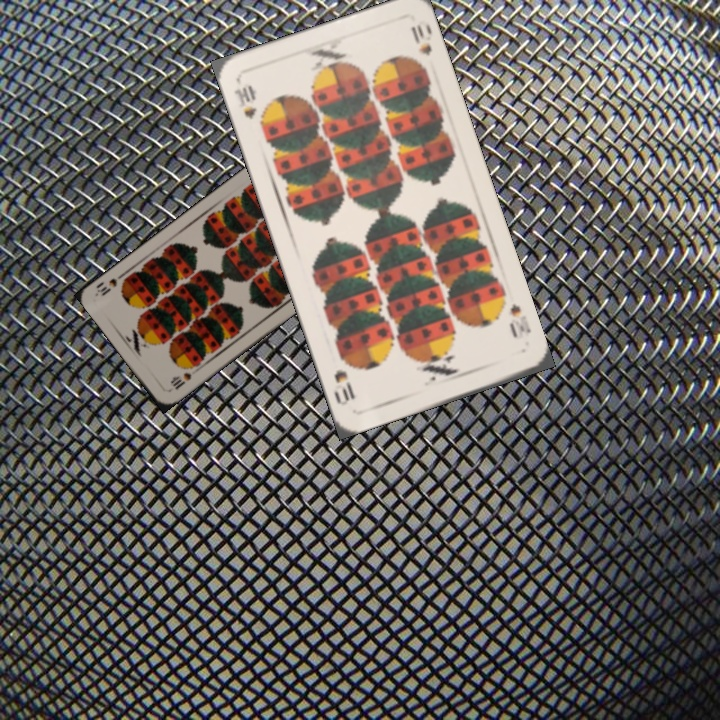S10: (230, 81, 260, 122), (505, 299, 534, 341), (166, 361, 197, 392)
